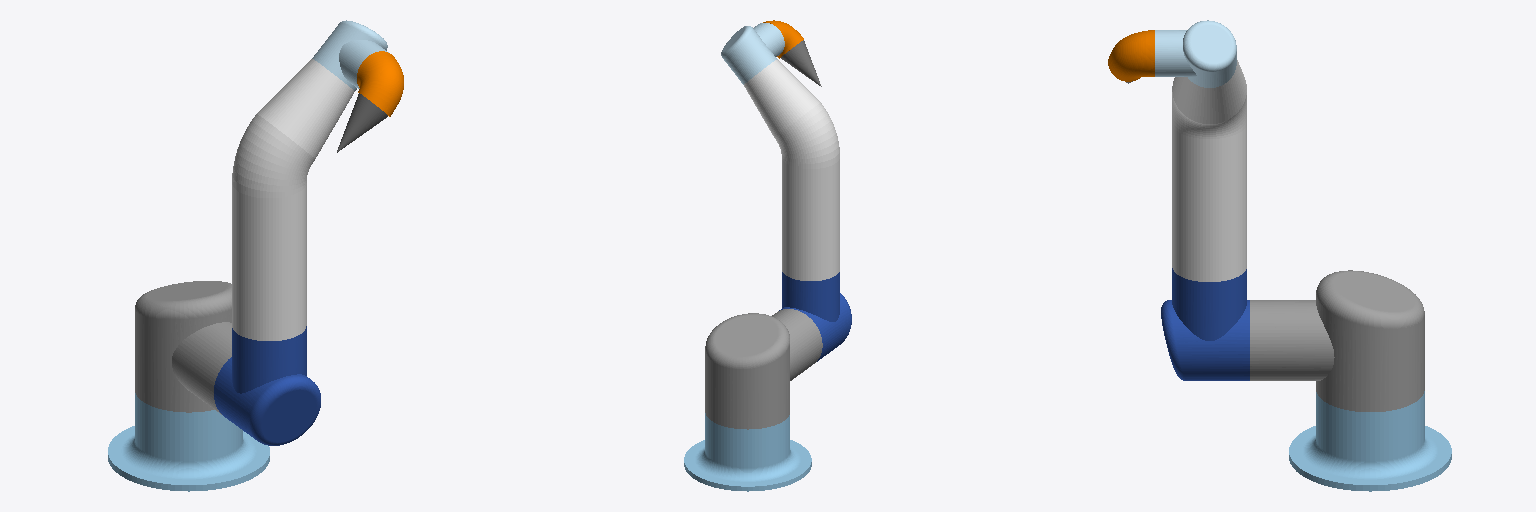
URDF robot description (onbot):
<robot name="onbot">
<link name="base_link"></link>
<joint name="base_link_to_base" type="fixed">
<parent link="base_link"/>
<child link="link_0" />
<origin rpy="0.0 0 0" xyz="0 0 0"/>
</joint>
<link name="link_0">
<visual>
<origin xyz="-4.6030238945835243419e-05 1.5265566588595902431e-16 -5.1719199876371080293e-05" rpy="0 -0 0" />
<geometry>
<mesh filename="package://onbot_description/model/link_0.stl"/>
</geometry>
<material name="link_0_material">
<color rgba="0.61568627450980395466 0.81176470588235294379 0.92941176470588238168 1.0"/>
</material>
</visual>
<collision>
<origin xyz="-4.6030238945835243419e-05 1.5265566588595902431e-16 -5.1719199876371080293e-05" rpy="0 -0 0" />
<geometry>
<mesh filename="package://onbot_description/model/link_0.stl"/>
</geometry>
</collision>
<inertial>
<origin xyz="-4.6030238945840630548e-05 1.50370998007707436e-16 0.00875189381773204024" rpy="0 0 0"/>
<mass value="0.19748871252557395617" />
<inertia ixx="0.00023806805487244103465" ixy="0"  ixz="0" iyy="0.00023806805487244111596" iyz="0" izz="0.00036736927045971060242" />
</inertial>
</link>

<link name="link_1">
<visual>
<origin xyz="0 2.4492935982947009909e-18 0.050000000000000002776" rpy="3.141592653589793116 -0 0" />
<geometry>
<mesh filename="package://onbot_description/model/link_1.stl"/>
</geometry>
<material name="link_1_material">
<color rgba="0.64705882352941179736 0.64705882352941179736 0.64705882352941179736 1.0"/>
</material>
</visual>
<collision>
<origin xyz="0 2.4492935982947009909e-18 0.050000000000000002776" rpy="3.141592653589793116 -0 0" />
<geometry>
<mesh filename="package://onbot_description/model/link_1.stl"/>
</geometry>
</collision>
<inertial>
<origin xyz="-2.1009090720132303427e-07 0.018046899242789186252 -0.04459900315840159557" rpy="0 0 0"/>
<mass value="0.20422764659859179992" />
<inertia ixx="0.00040583180502166933202" ixy="-8.2126532819234253952e-10"  ixz="1.3097516849345761763e-10" iyy="0.00025569699180062245049" iyz="-5.1960999759273288282e-06" izz="0.00040933805553530343713" />
</inertial>
</link>

<link name="link_2">
<visual>
<origin xyz="3.4694469519536141888e-18 0.089999999999999996669 0.088499999999999995337" rpy="1.570796326794896558 -0 0" />
<geometry>
<mesh filename="package://onbot_description/model/link_2.stl"/>
</geometry>
<material name="link_2_material">
<color rgba="0.2313725490196078538 0.38039215686274507888 0.7058823529411765163 1.0"/>
</material>
</visual>
<collision>
<origin xyz="3.4694469519536141888e-18 0.089999999999999996669 0.088499999999999995337" rpy="1.570796326794896558 -0 0" />
<geometry>
<mesh filename="package://onbot_description/model/link_2.stl"/>
</geometry>
</collision>
<inertial>
<origin xyz="-1.5128118543499437814e-07 -0.012641799801596770303 -0.033435261764562726472" rpy="0 0 0"/>
<mass value="0.11247063896424530638" />
<inertia ixx="0.00012176106546512120027" ixy="-6.3409838943978570137e-10"  ixz="4.4734681123913029655e-09" iyy="8.7652394673544626116e-05" iyz="1.1712555094518884594e-06" izz="0.00012405909656661268342" />
</inertial>
</link>

<link name="link_3">
<visual>
<origin xyz="0 -0.11849999999999999423 0.14999999999999999445" rpy="3.141592653589793116 -0 0" />
<geometry>
<mesh filename="package://onbot_description/model/link_3.stl"/>
</geometry>
<material name="link_3_material">
<color rgba="0.91764705882352937127 0.91764705882352937127 0.91764705882352937127 1.0"/>
</material>
</visual>
<collision>
<origin xyz="0 -0.11849999999999999423 0.14999999999999999445" rpy="3.141592653589793116 -0 0" />
<geometry>
<mesh filename="package://onbot_description/model/link_3.stl"/>
</geometry>
</collision>
<inertial>
<origin xyz="0.0078337060796188819761 -1.0386783531879384412e-07 -0.10013861962485157142" rpy="0 0 0"/>
<mass value="0.22737840994406133266" />
<inertia ixx="0.00079860275000988908273" ixy="-1.6677542779044484445e-10"  ixz="0.00012519289428229732016" iyy="0.0008434141205222407461" iyz="-1.9913502200771837082e-09" izz="0.00019249795570076301803" />
</inertial>
</link>

<link name="link_4">
<visual>
<origin xyz="0.20262179871384716767 -0.11849999999999995259 0.28021418370089529182" rpy="3.141592653589793116 0.78539816339744883411 0" />
<geometry>
<mesh filename="package://onbot_description/model/link_4.stl"/>
</geometry>
<material name="link_4_material">
<color rgba="0.76862745098039220171 0.88627450980392152857 0.95294117647058818044 1.0"/>
</material>
</visual>
<collision>
<origin xyz="0.20262179871384716767 -0.11849999999999995259 0.28021418370089529182" rpy="3.141592653589793116 0.78539816339744883411 0" />
<geometry>
<mesh filename="package://onbot_description/model/link_4.stl"/>
</geometry>
</collision>
<inertial>
<origin xyz="2.4284498537086030012e-07 0.0082832269284789233899 -0.022081712352676030608" rpy="0 0 0"/>
<mass value="0.048256844879494255329" />
<inertia ixx="2.2358212256931444086e-05" ixy="-3.7883120505678243642e-12"  ixz="-1.1603773543795602136e-10" iyy="1.5613914290225994826e-05" iyz="-1.5948861987615502584e-07" izz="2.2572518701391077074e-05" />
</inertial>
</link>

<link name="link_5">
<visual>
<origin xyz="-0.068962223089810953391 0.3555068611989034566 0.15849999999999994649" rpy="1.570796326794896558 -0 0" />
<geometry>
<mesh filename="package://onbot_description/model/link_5.stl"/>
</geometry>
<material name="link_5_material">
<color rgba="0.97254901960784312376 0.52941176470588235947 0.0039215686274509803377 1.0"/>
</material>
</visual>
<collision>
<origin xyz="-0.068962223089810953391 0.3555068611989034566 0.15849999999999994649" rpy="1.570796326794896558 -0 0" />
<geometry>
<mesh filename="package://onbot_description/model/link_5.stl"/>
</geometry>
</collision>
<inertial>
<origin xyz="-0.0022489573708548982189 0.0022429133128372136241 -0.015487782949528905441" rpy="0 0 0"/>
<mass value="0.019619388673335114853" />
<inertia ixx="3.9829832114202757282e-06" ixy="-4.7305678667754595918e-08"  ixz="-4.0715333009412489415e-07" iyy="3.9834498983275300703e-06" iyz="4.079331029878774833e-07" izz="4.3358514980470292728e-06" />
</inertial>
</link>

<link name="end_effector">
<visual>
<origin xyz="0.20262179871384719543 0.17825897037982946225 -0.28021418370089534733" rpy="0 -0.78539816339744883411 0" />
<geometry>
<mesh filename="package://onbot_description/model/end_effector.stl"/>
</geometry>
<material name="end_effector_material">
<color rgba="0.49803921568627451677 0.49803921568627451677 0.49803921568627451677 1.0"/>
</material>
</visual>
<collision>
<origin xyz="0.20262179871384719543 0.17825897037982946225 -0.28021418370089534733" rpy="0 -0.78539816339744883411 0" />
<geometry>
<mesh filename="package://onbot_description/model/end_effector.stl"/>
</geometry>
</collision>
<inertial>
<origin xyz="5.5511151231257827021e-17 8.3266726846886752858e-17 -0.013935997588811366299" rpy="0 0 0"/>
<mass value="0.011726452949906113893" />
<inertia ixx="1.6310702112671920742e-06" ixy="0"  ixz="-1.2892725899987697217e-21" iyy="1.6310702112671910154e-06" iyz="0" izz="9.6128966498054122092e-07" />
</inertial>
</link>

<joint name="Joint_6" type="revolute">
<origin xyz="-0.014100633793567837748 0.014085751536034640807 -0.019686827757306402109" rpy="1.570796326794896558 -0 0.78539816339744883411" />
<parent link="link_5" />
<child link="end_effector" />
<axis xyz="0 0 1"/>
<limit effort="1" velocity="20" lower="-1.570796326794896558" upper="1.570796326794896558"/>
<joint_properties friction="0.0"/>
</joint>

<joint name="Joint_5" type="revolute">
<origin xyz="-5.5511151231257827021e-17 0.040000000000000104916 -0.020000000000000128786" rpy="1.570796326794896558 0.78539816339744883411 0" />
<parent link="link_4" />
<child link="link_5" />
<axis xyz="0 0 1"/>
<limit effort="1" velocity="20" lower="-1.570796326794896558" upper="1.570796326794896558"/>
<joint_properties friction="0.0"/>
</joint>

<joint name="Joint_4" type="revolute">
<origin xyz="0.054866101592779180363 -1.3877787807814456755e-17 -0.19141659736633301336" rpy="0 -0.78539816339744883411 0" />
<parent link="link_3" />
<child link="link_4" />
<axis xyz="0 0 1"/>
<limit effort="1" velocity="20" lower="-1.570796326794896558" upper="1.570796326794896558"/>
<joint_properties friction="0.0"/>
</joint>

<joint name="Joint_3" type="revolute">
<origin xyz="-1.2962992224779812389e-17 -0.060000000000000081046 -0.029999999999999985012" rpy="-1.570796326794896558 -0 0" />
<parent link="link_2" />
<child link="link_3" />
<axis xyz="0 0 1"/>
<limit effort="1" velocity="20" lower="-1.570796326794896558" upper="1.570796326794896558"/>
<joint_properties friction="0.0"/>
</joint>

<joint name="Joint_2" type="revolute">
<origin xyz="-3.4694469519536141888e-18 0.088499999999999995337 -0.039999999999999993894" rpy="1.570796326794896558 -0 0" />
<parent link="link_1" />
<child link="link_2" />
<axis xyz="0 0 1"/>
<limit effort="1" velocity="20" lower="-1.570796326794896558" upper="1.570796326794896558"/>
<joint_properties friction="0.0"/>
</joint>

<joint name="Joint_1" type="revolute">
<origin xyz="-4.6030238945835243419e-05 1.551049594842537253e-16 0.049948280800123631695" rpy="3.141592653589793116 -0 0" />
<parent link="link_0" />
<child link="link_1" />
<axis xyz="0 0 1"/>
<limit effort="1" velocity="20" lower="-1.570796326794896558" upper="1.570796326794896558"/>
<joint_properties friction="0.0"/>
</joint>

<link name="world"/>

<joint name="virtual_joint" type="fixed">
<parent link="world"/>
<child link="base_link"/>
<origin xyz= "0 0 -0.05" rpy = "0 0 0"/>  
</joint>





<!-- 
        ############################### the following is the additional code #########################
-->

<!-- 
<transmission name="transmission_1">
        <plugin>transmission_interface/SimpleTransmission</plugin>
        <actuator name="motor_1" role="actuatorone"/>
        <joint name="joint_1" role="jointone">
                <mechanical_reduction>1.0</mechanical_reduction>
        </joint>
</transmission>

<transmission name="transmission_2">
        <plugin>transmission_interface/SimpleTransmission</plugin>
        <actuator name="motor_2" role="actuatorone"/>
        <joint name="joint_2" role="jointone">
                <mechanical_reduction>1.0</mechanical_reduction>
        </joint>
</transmission>

<transmission name="transmission_3">
        <plugin>transmission_interface/SimpleTransmission</plugin>
        <actuator name="motor_3" role="actuatorone"/>
        <joint name="joint_3" role="jointone">
                <mechanical_reduction>1.0</mechanical_reduction>
        </joint>
</transmission>

<transmission name="transmission_4">
        <plugin>transmission_interface/SimpleTransmission</plugin>
        <actuator name="motor_4" role="actuatorone"/>
        <joint name="joint_4" role="jointone">
                <mechanical_reduction>1.0</mechanical_reduction>
        </joint>
</transmission>

<transmission name="transmission_5">
        <plugin>transmission_interface/SimpleTransmission</plugin>
        <actuator name="motor_5" role="actuatorone"/>
        <joint name="joint_5" role="jointone">
                <mechanical_reduction>1.0</mechanical_reduction>
        </joint>
</transmission>

<transmission name="transmission_6">
        <plugin>transmission_interface/SimpleTransmission</plugin>
        <actuator name="motor_6" role="actuatorone"/>
        <joint name="joint_6" role="jointone">
                <mechanical_reduction>1.0</mechanical_reduction>
        </joint>
</transmission> -->

<!-- <gazebo>
        <plugin filename="ign_ros2_control-system" name="ign_ros2_control::IgnitionROS2ControlPlugin">
                <robot_param>robot_description</robot_param>
                <robot_param_node>robot_state_publisher</robot_param_node>
                <parameters>$(find onbot_controller)/config/onbot_controller.yaml</parameters>
        </plugin>
</gazebo> -->

<gazebo>
        <plugin filename="ignition-gazebo-joint-position-controller-system" name="ignition::gazebo::systems::JointPositionController">
            <joint_name>Joint_1</joint_name>
        </plugin>    
</gazebo> 
<gazebo>
        <plugin filename="ignition-gazebo-joint-position-controller-system" name="ignition::gazebo::systems::JointPositionController">
            <joint_name>Joint_2</joint_name>
        </plugin>    
</gazebo> 
<gazebo>
        <plugin filename="ignition-gazebo-joint-position-controller-system" name="ignition::gazebo::systems::JointPositionController">
            <joint_name>Joint_3</joint_name>
        </plugin>    
</gazebo> 
<gazebo>
        <plugin filename="ignition-gazebo-joint-position-controller-system" name="ignition::gazebo::systems::JointPositionController">
            <joint_name>Joint_4</joint_name>
        </plugin>    
</gazebo> 
<gazebo>
        <plugin filename="ignition-gazebo-joint-position-controller-system" name="ignition::gazebo::systems::JointPositionController">
            <joint_name>Joint_5</joint_name>
        </plugin>    
</gazebo> 
<gazebo>
        <plugin filename="ignition-gazebo-joint-position-controller-system" name="ignition::gazebo::systems::JointPositionController">
            <joint_name>Joint_6</joint_name>
        </plugin>    
</gazebo> 


<!-- <ros2_control>
        <hardware>
                <plugin>ign_ros2_control/IgnitionSystem</plugin>
        </hardware>
        <joint name="joint_1">
                <command_interface name="position">
                        <param name="min">-1.570796326794896558</param>
                        <param name="max">1.570796326794896558</param>
                </command_interface>
                <state_interface name="position"/>
        </joint> 
        <joint name="joint_2">
                <command_interface name="position">
                        <param name="min">-1.570796326794896558</param>
                        <param name="max">1.570796326794896558</param>
                </command_interface>
                <state_interface name="position"/>
        </joint> 
        <joint name="joint_3">
                <command_interface name="position">
                        <param name="min">-1.570796326794896558</param>
                        <param name="max">1.570796326794896558</param>
                </command_interface>
                <state_interface name="position"/>
        </joint> 
        <joint name="joint_4">
                <command_interface name="position">
                        <param name="min">-1.570796326794896558</param>
                        <param name="max">1.570796326794896558</param>
                </command_interface>
                <state_interface name="position"/>
        </joint> 
        <joint name="joint_5">
                <command_interface name="position">
                        <param name="min">-1.570796326794896558</param>
                        <param name="max">1.570796326794896558</param>
                </command_interface>
                <state_interface name="position"/>
        </joint> 
        <joint name="joint_6">
                <command_interface name="position">
                        <param name="min">-1.570796326794896558</param>
                        <param name="max">1.570796326794896558</param>
                </command_interface>
                <state_interface name="position"/>
        </joint>   
</ros2_control> -->

</robot>

--- Facts derived from the render (not from the file) ---
3 views of the same robot in one strip: view 1: azimuth 30°, elevation 25°; view 2: azimuth 150°, elevation 25°; view 3: azimuth 270°, elevation 25° (orthographic).
Robot: onbot — 9 links, 8 joints (6 revolute, 2 fixed); root link world; default pose: every joint at zero.
Links seen in each view (by area): view 1: link_3, link_1, link_0, link_2, link_4, link_5, end_effector; view 2: link_3, link_1, link_0, link_2, link_4, end_effector; view 3: link_1, link_3, link_0, link_2, link_4, link_5.
Link boxes in pixels (left/top/right/bottom): link_3: left=232, top=59, right=354, bottom=340; link_1: left=135, top=281, right=231, bottom=414; link_0: left=108, top=393, right=269, bottom=491; link_2: left=214, top=326, right=320, bottom=445; link_4: left=312, top=20, right=388, bottom=90; link_5: left=357, top=51, right=403, bottom=116; end_effector: left=337, top=93, right=387, bottom=152; link_3: left=744, top=59, right=839, bottom=280; link_1: left=705, top=309, right=822, bottom=429; link_0: left=684, top=413, right=811, bottom=491; link_2: left=779, top=272, right=851, bottom=361; link_4: left=721, top=23, right=784, bottom=84; end_effector: left=781, top=40, right=821, bottom=86; link_1: left=1250, top=270, right=1424, bottom=411; link_3: left=1172, top=60, right=1246, bottom=281; link_0: left=1289, top=391, right=1451, bottom=491; link_2: left=1161, top=268, right=1249, bottom=380; link_4: left=1155, top=20, right=1236, bottom=87; link_5: left=1108, top=30, right=1154, bottom=81.
Bounding box of the posed robot: 0.1555 × 0.2533 × 0.387 m (x, y, z).
Meshes: 7 distinct files referenced, 7 mesh visuals loaded (7 binary STL).